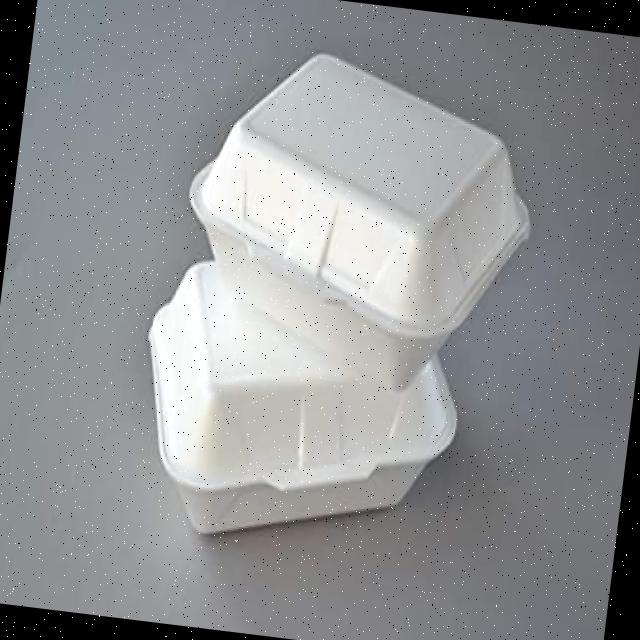styrofoam: (123, 31, 549, 570)
